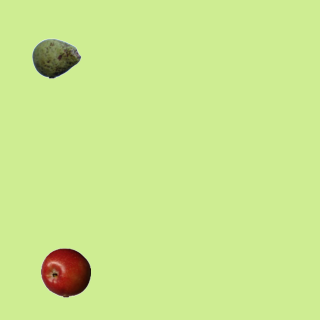Apple Braeburn: (40, 247, 90, 297)
Pear Stone: (31, 33, 81, 83)
